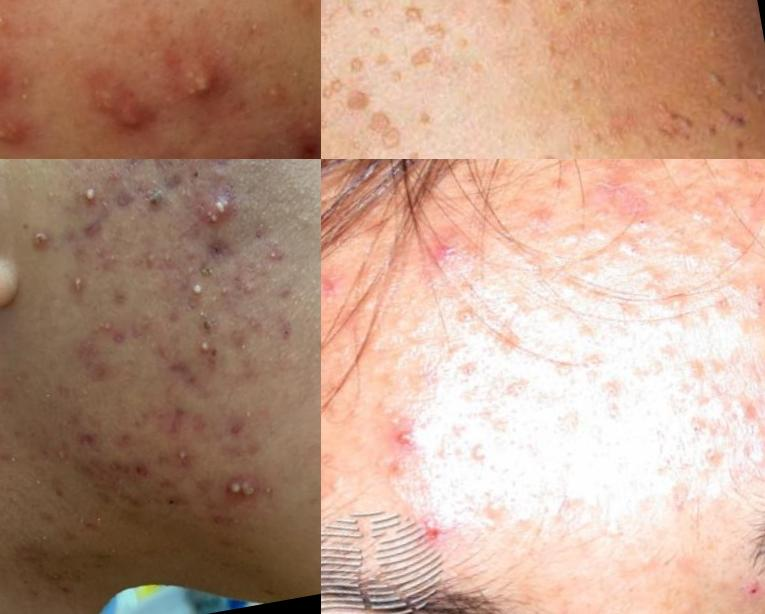blackhead: (507, 363, 546, 408), (450, 294, 485, 343), (575, 348, 610, 389), (598, 388, 632, 426), (701, 440, 733, 479), (682, 412, 712, 441), (745, 278, 765, 320), (630, 212, 656, 236)
flat_wart: (635, 54, 765, 157), (393, 1, 455, 74), (356, 101, 417, 160), (346, 41, 408, 92), (322, 70, 377, 121), (354, 1, 399, 51), (322, 1, 340, 74), (541, 1, 605, 21), (479, 1, 525, 15), (455, 149, 506, 160)
papular: (416, 228, 468, 273), (392, 417, 434, 461), (322, 263, 343, 307)
purulent: (70, 177, 118, 216), (177, 275, 223, 308), (24, 224, 61, 259), (63, 270, 92, 302), (172, 443, 202, 473), (194, 334, 221, 359), (1, 55, 9, 111)
sebo-crystan-conglo: (170, 45, 244, 110), (89, 75, 151, 139), (191, 186, 254, 237), (218, 469, 273, 516)
whitehead: (322, 443, 363, 505), (542, 220, 595, 265), (369, 442, 415, 493), (593, 309, 644, 351), (466, 431, 508, 479), (567, 254, 612, 298), (684, 198, 724, 236), (613, 228, 650, 268), (679, 350, 715, 386), (637, 352, 672, 388), (443, 355, 481, 388), (250, 247, 292, 276), (544, 351, 579, 384), (725, 394, 759, 427), (203, 160, 239, 191), (662, 287, 697, 318), (48, 437, 77, 472), (568, 316, 602, 344), (307, 330, 322, 356), (596, 318, 598, 320)
